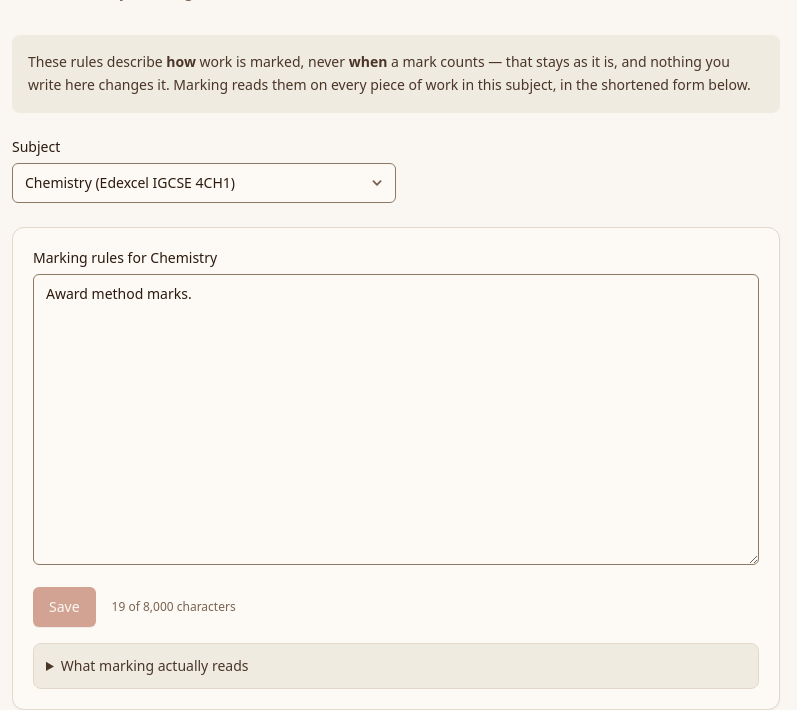
Test case: saving new rules drops the old shortened form rather than showing it against them
The width and height of the screenshot is (797, 710).
(page scrolled)
Click the heading "What marking actually reads": (155,665) [61, 656, 248, 675]
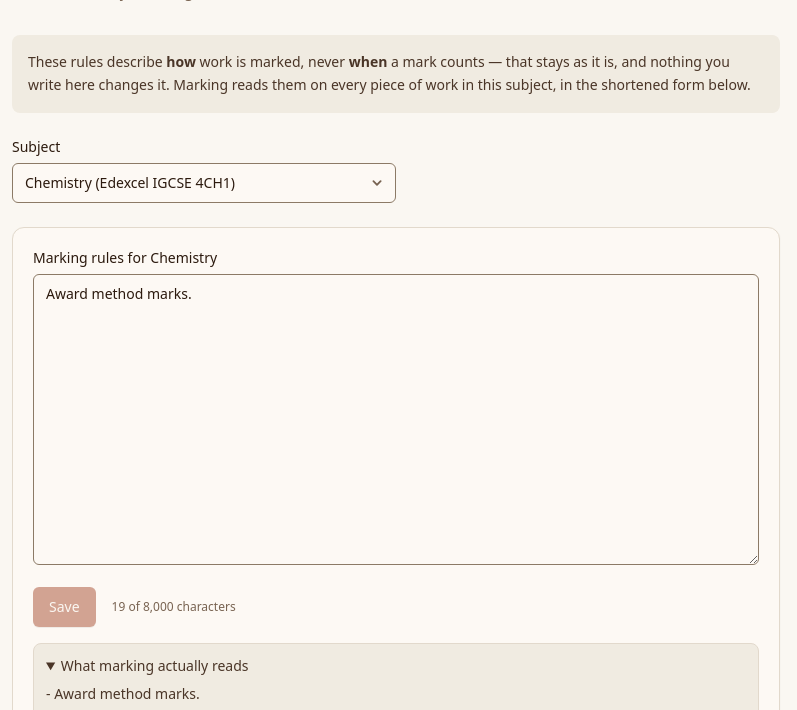
Expected: the text "- Award method marks." is shown, [46, 684, 200, 703]
Replace the text in the text box labelled "Marking rules for Chemistry" with "Never award method marks.": (396,419) [33, 274, 759, 565]
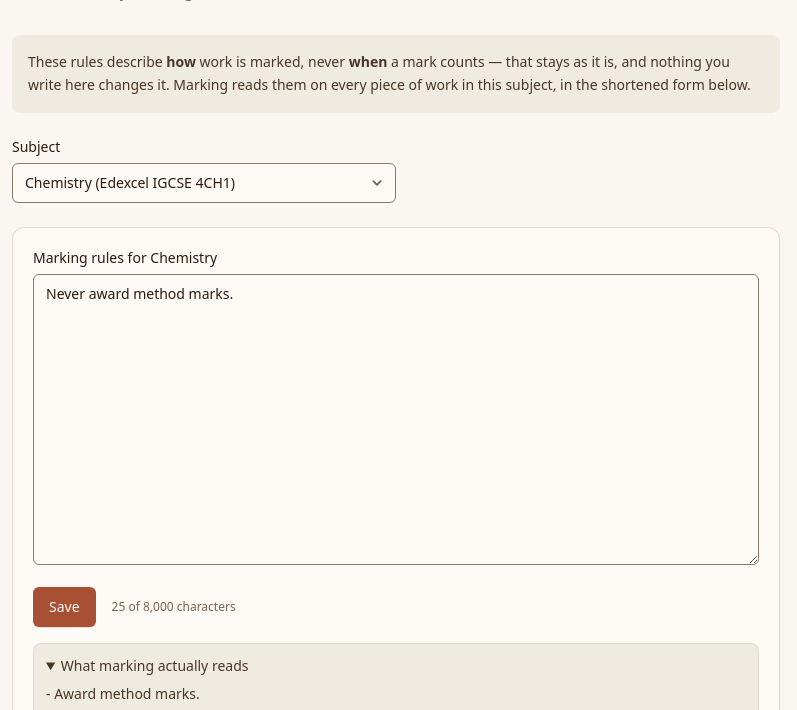
Click the button "Save": (64,607) [33, 587, 96, 627]
(page scrolled)
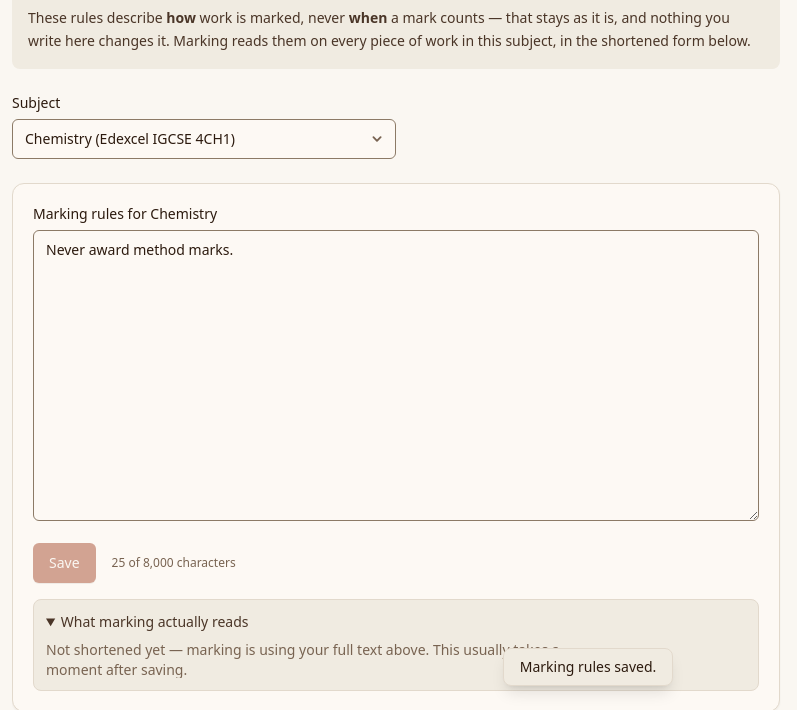
Now the text "marking is using your full text above" is shown, box [46, 640, 560, 679]
Now the text "- Award method marks." is gone
